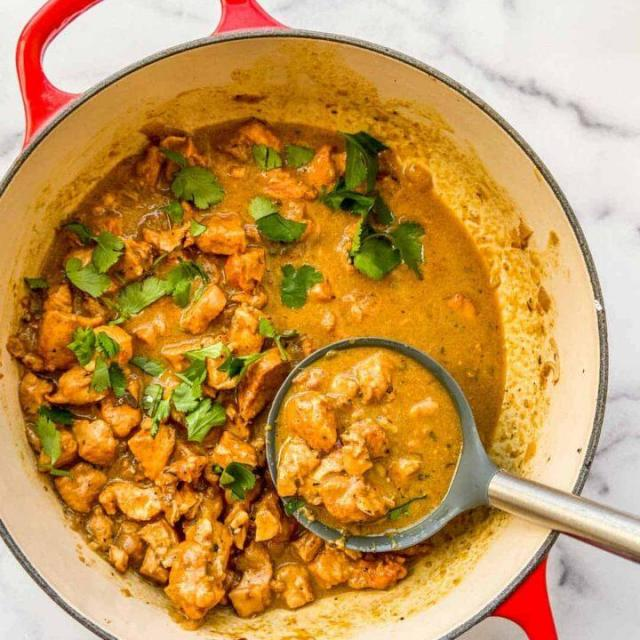chicken: (45, 104, 492, 615)
